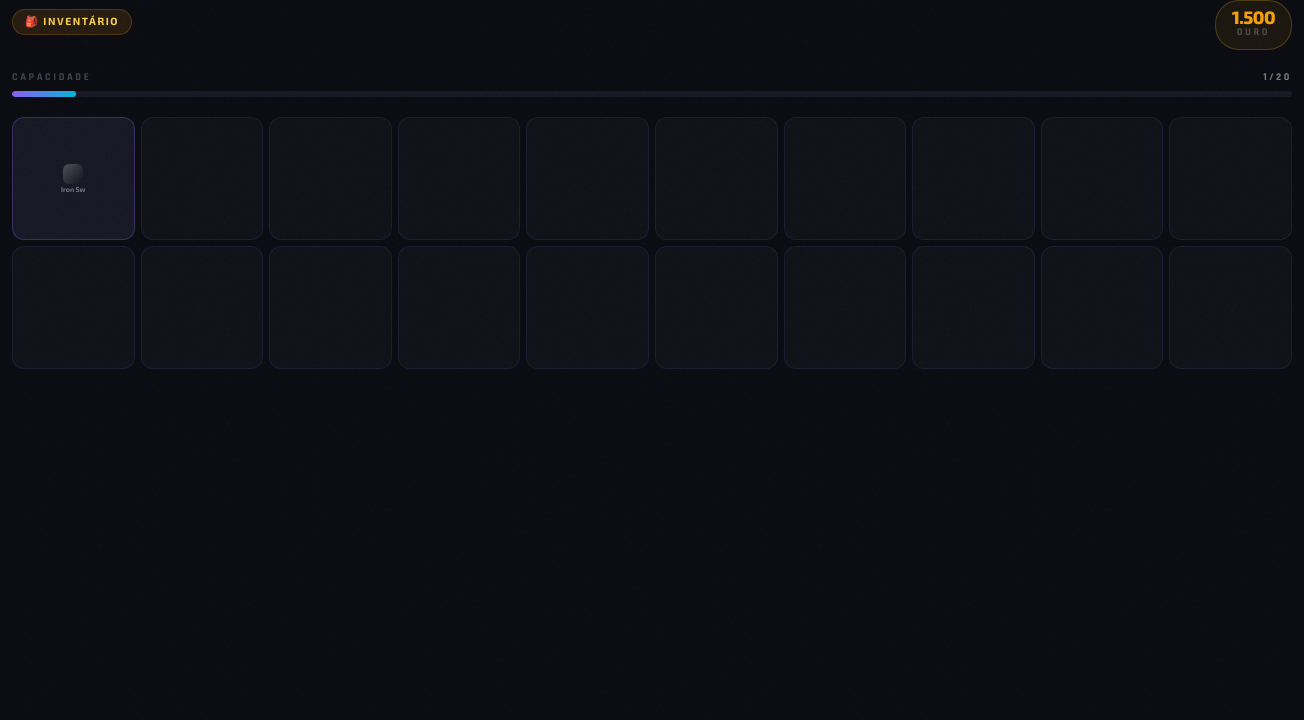
Scenario: InventoryPanel › clicar em item exibe painel de detalhe com nome completo
Click the button titled "Iron Sword". click: (73, 179)
box: [12,117,135,240]
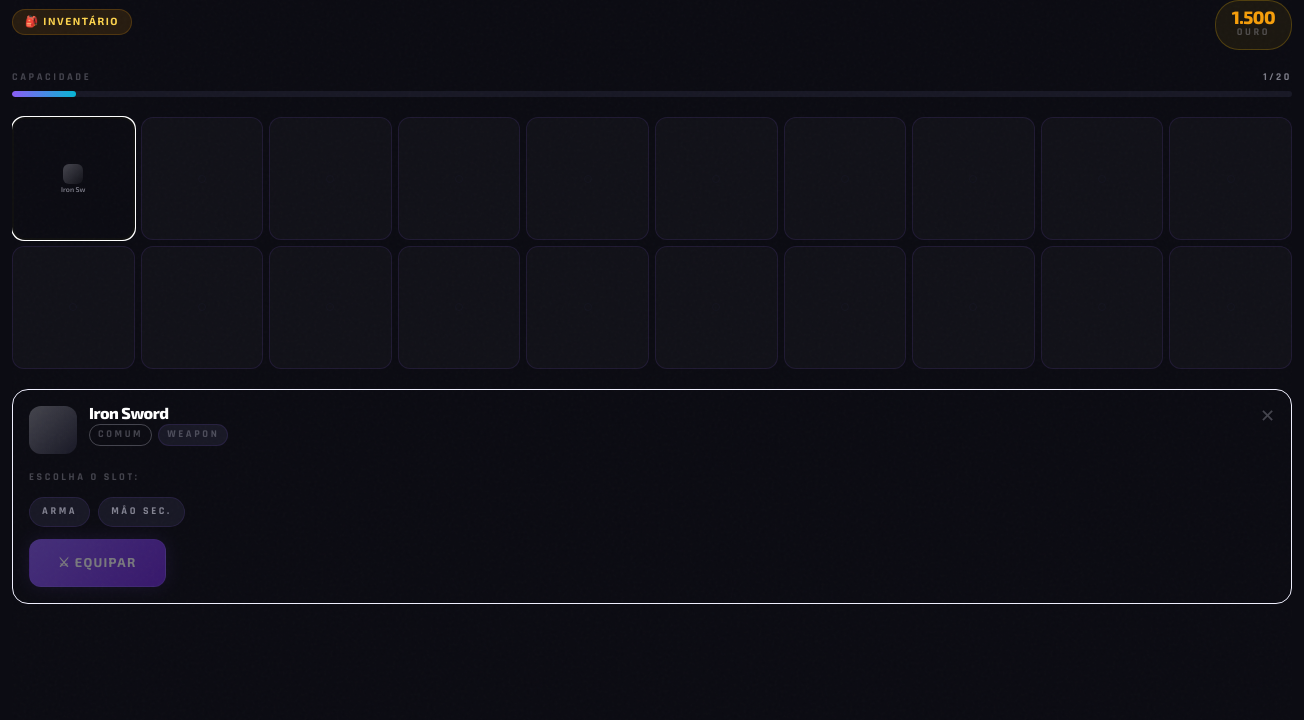
Check: the heading "Iron Sword" is shown, box [89,403,169,422]
Check: the text "weapon" is shown, box [158,424,228,446]
